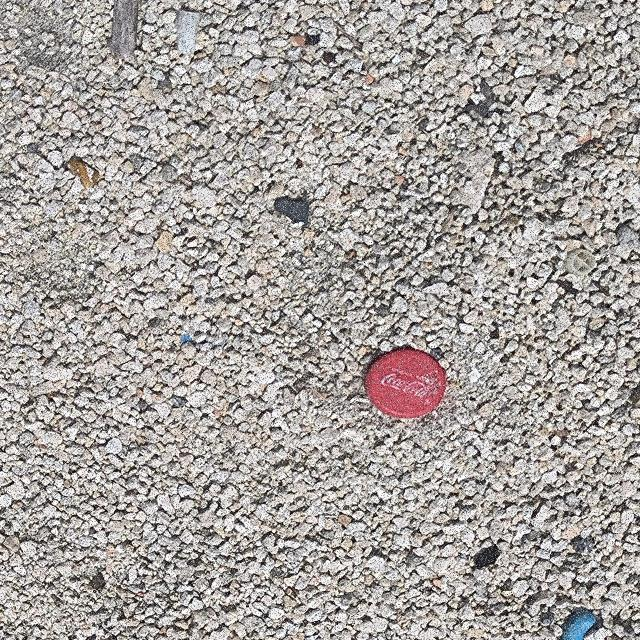plastic_waste: (364, 349, 449, 421)
